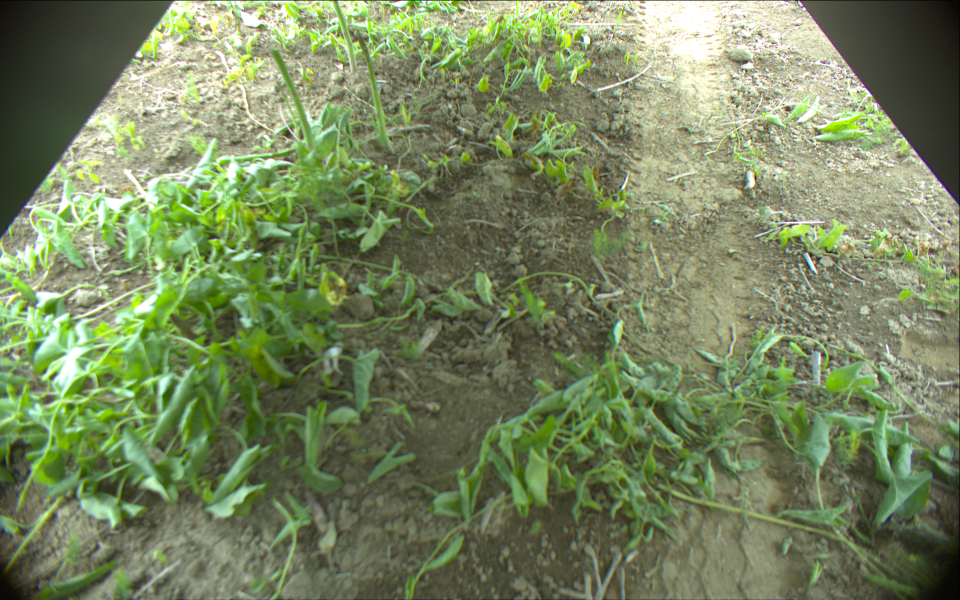aspa: (358, 36, 396, 153), (272, 48, 313, 151), (329, 1, 359, 72)
